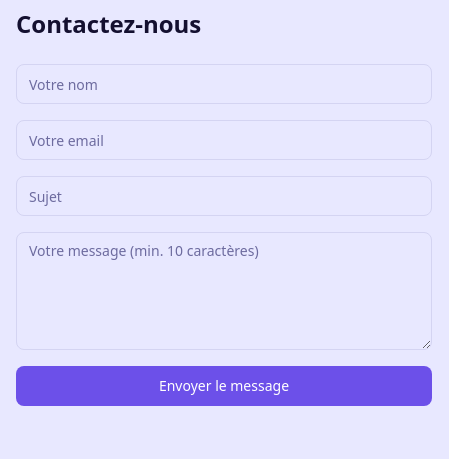
Test: ContactPage › affiche une erreur générique si la réponse n'est pas du JSON
Type "Jean" into the field with placeholder "Votre nom". click: (224, 84)
box: x1=16 y1=64 x2=432 y2=104
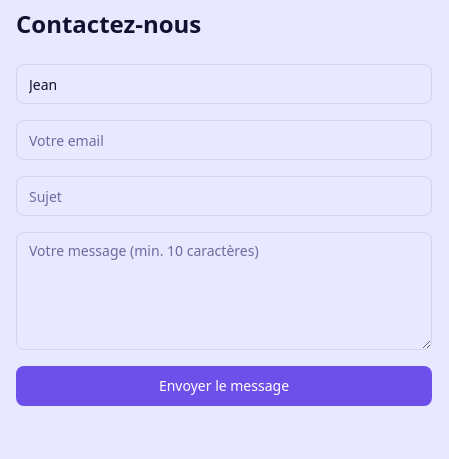
Type "jean@test.com" into the field with placeholder "Votre email". click: (224, 140)
box: x1=16 y1=120 x2=432 y2=160
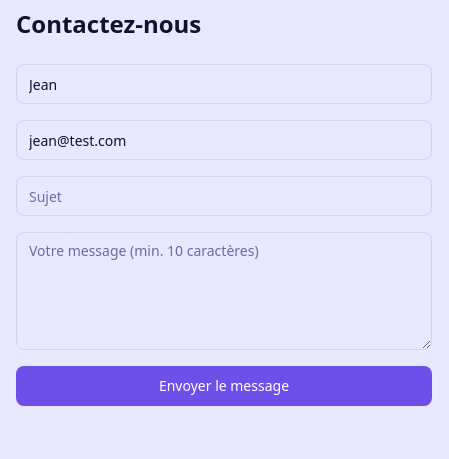
Type "Question" into the field with placeholder "Sujet". click: (224, 196)
box: x1=16 y1=176 x2=432 y2=216
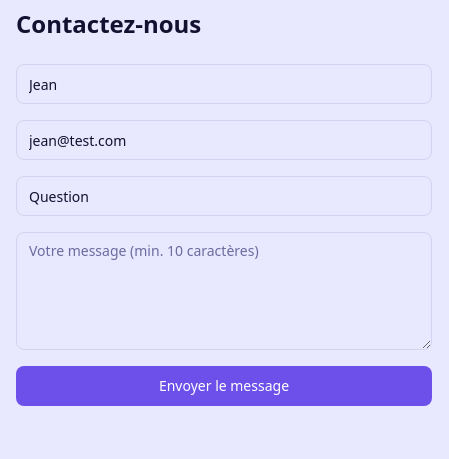
Type "Bonjour, ceci est un message de test." into the text box with placeholder "Votre message (min. 10 caractères)". click: (224, 291)
box: x1=16 y1=232 x2=432 y2=350
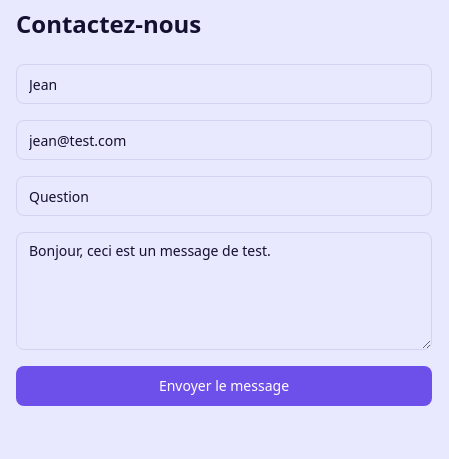
Click the button "Envoyer le message". click: (224, 386)
box: x1=16 y1=366 x2=432 y2=406
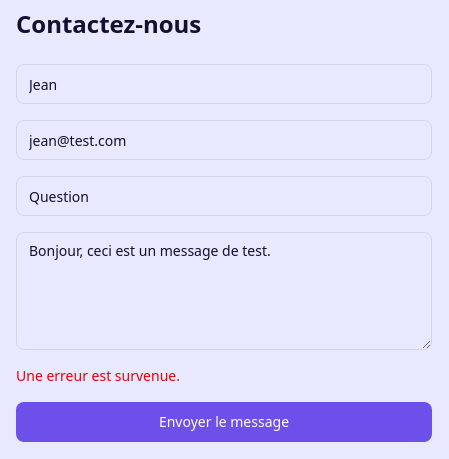
Expected: the text "Une erreur est survenue." is shown, x1=16 y1=366 x2=180 y2=385
